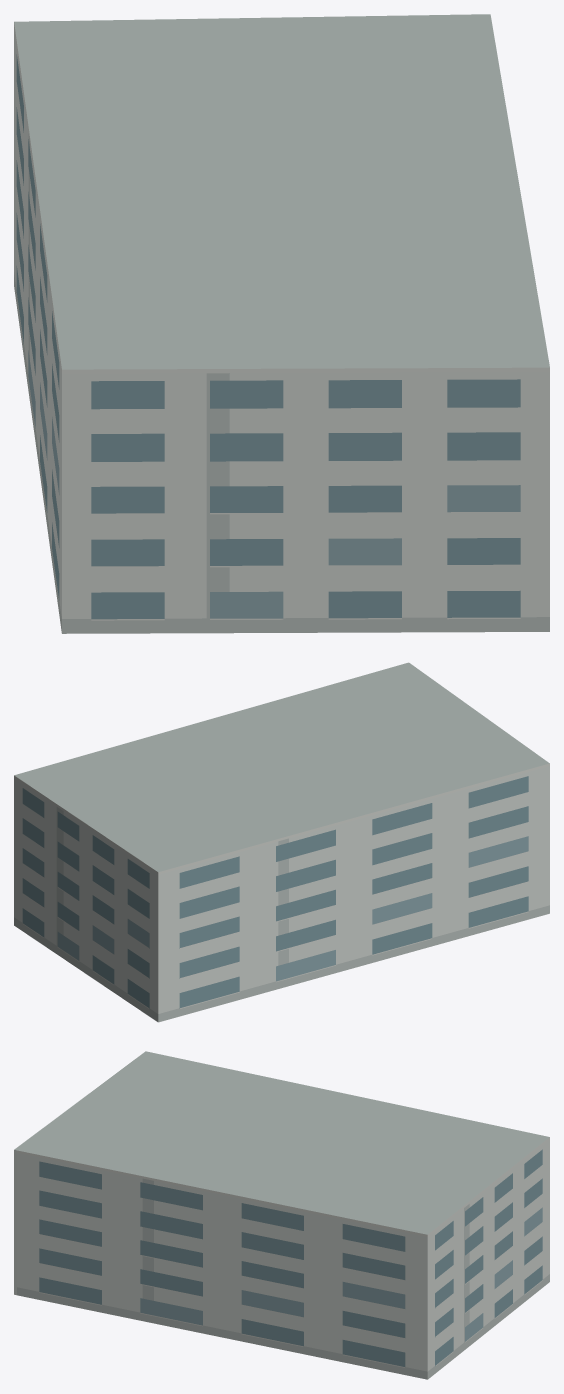
Rendered from residential-4fcfc2c8-2da9-4af0-b3d8-6105ab7187f5.glb.
The picture shows the model from 3 angles, top to bottom: view 1: azimuth 30°, elevation 25°; view 2: azimuth 150°, elevation 25°; view 3: azimuth 270°, elevation 25°; orthographic projection. The views are drawn at different scales.
Visible parts, largest first — view 1: residential-4fcfc2c8-2da9-4af0-b3d8-6105ab7187f5.tmp; view 2: residential-4fcfc2c8-2da9-4af0-b3d8-6105ab7187f5.tmp; view 3: residential-4fcfc2c8-2da9-4af0-b3d8-6105ab7187f5.tmp.
Part boxes in pixels (x1=…): residential-4fcfc2c8-2da9-4af0-b3d8-6105ab7187f5.tmp: x1=14, y1=14, x2=549, y2=633; residential-4fcfc2c8-2da9-4af0-b3d8-6105ab7187f5.tmp: x1=14, y1=662, x2=549, y2=1022; residential-4fcfc2c8-2da9-4af0-b3d8-6105ab7187f5.tmp: x1=14, y1=1051, x2=549, y2=1379.
Bounding box in the file's own units: 41.43 × 15.25 × 51.12.
